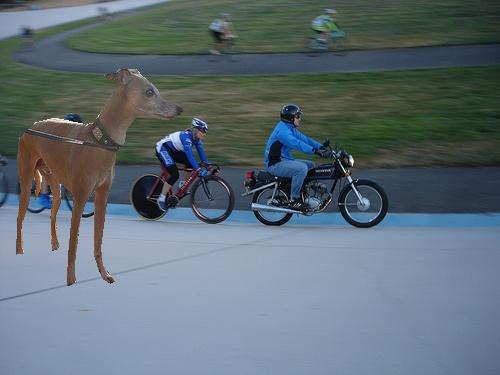tampered: (17, 70, 183, 286)
